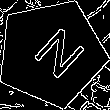N_SW: (19, 21, 84, 85)
